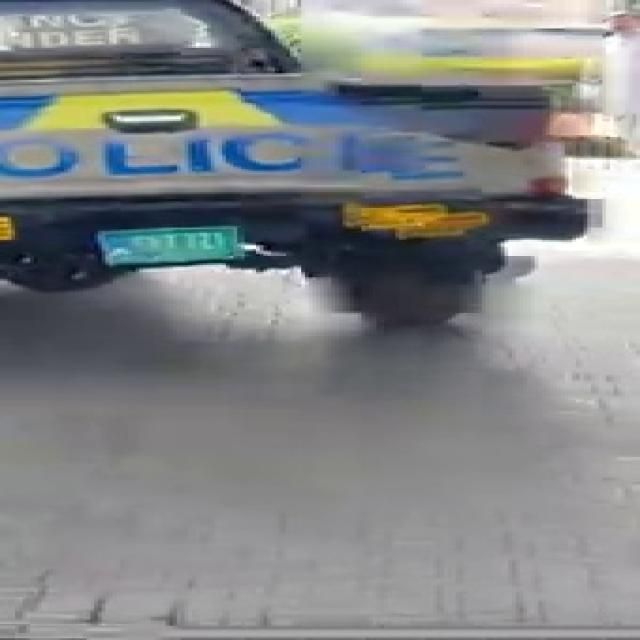police: (10, 0, 592, 307)
